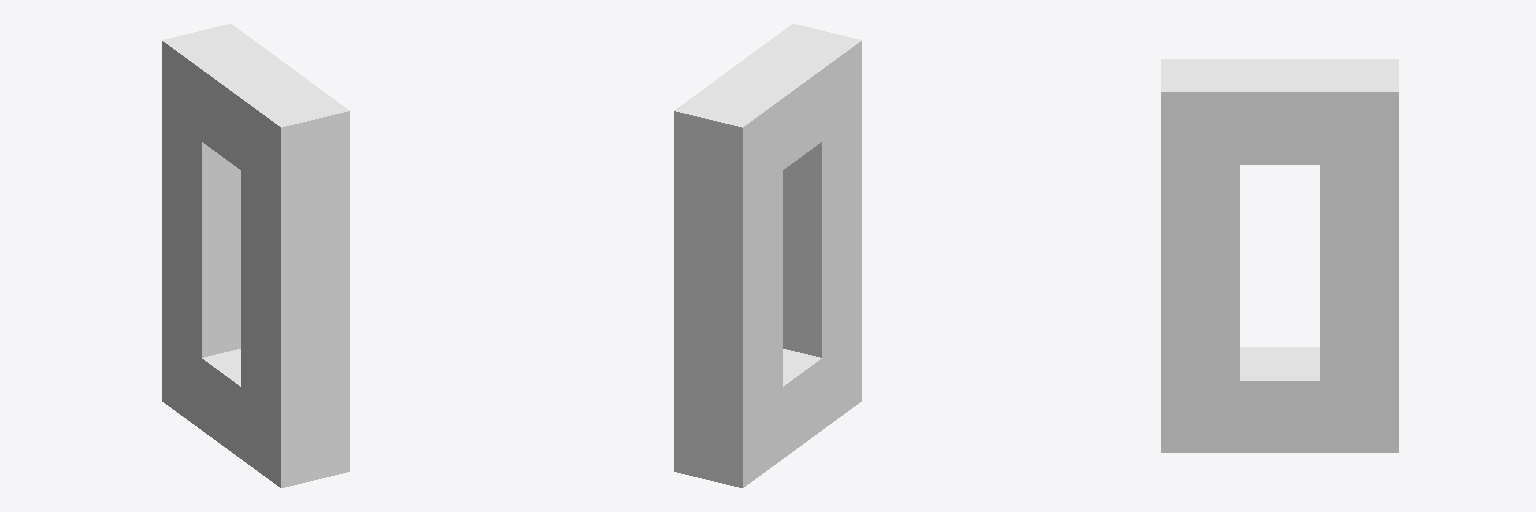
Rendered from nowruz-display-10.obj.
3 renders of one model, left to right at view 1: azimuth 30°, elevation 25°; view 2: azimuth 150°, elevation 25°; view 3: azimuth 270°, elevation 25°, orthographic.
Visible parts, largest first — view 1: object 1; view 2: object 1; view 3: object 1.
Boxes of the visible parts, box(x1,y1,x2,y2) form: object 1: box(162, 24, 349, 487); object 1: box(674, 24, 861, 487); object 1: box(1161, 59, 1398, 452).
Bounding box in the file's own units: 0.1 × 0.5 × 0.3.